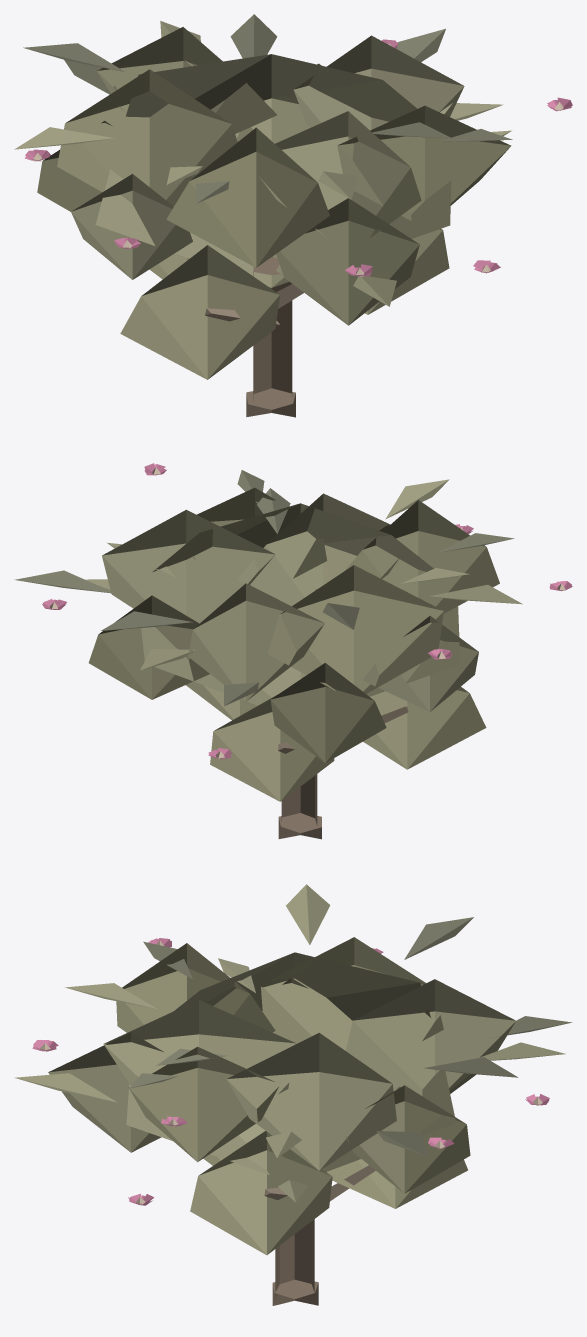
The model's file is shu.chuilui@flowering__winter.glb.
3 renders of one model, top to bottom at view 1: azimuth 30°, elevation 25°; view 2: azimuth 150°, elevation 25°; view 3: azimuth 270°, elevation 25°, orthographic. The views are drawn at different scales.
Visible parts, largest first — view 1: shu.chuilui@flowering__winter; view 2: shu.chuilui@flowering__winter; view 3: shu.chuilui@flowering__winter.
Part boxes in pixels (left/top/right/bottom): shu.chuilui@flowering__winter: left=14, top=14, right=572, bottom=417; shu.chuilui@flowering__winter: left=14, top=463, right=572, bottom=839; shu.chuilui@flowering__winter: left=14, top=884, right=572, bottom=1305.
Bounding box in the file's own units: 15.32 × 10.49 × 15.84.
